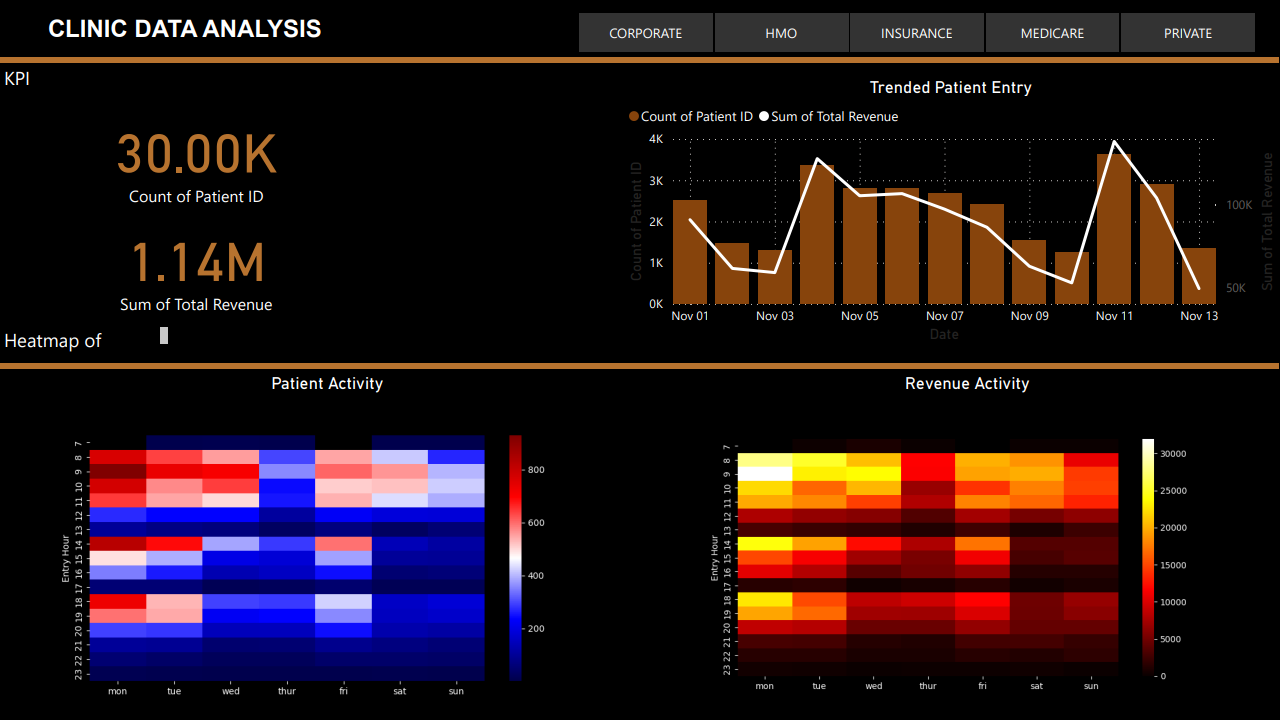

This screenshot's page, from the dashboard's own definition file:
{"tool":"powerbi","page":{"name":"Page 1","canvas":[1280,720],"ordinal":0},"visuals":[{"type":"pythonVisual","title":"Patient Activity","fields":{"Values":["cleaned_clinic_data.Patient ID","cleaned_clinic_data.Entry Hour","cleaned_clinic_data.days of the week"]},"box":[0,372.7,656.7,347],"z":0},{"type":"pythonVisual","title":"Revenue Activity","fields":{"Values":["cleaned_clinic_data.days of the week","cleaned_clinic_data.Entry Hour","cleaned_clinic_data.Total Revenue"]},"box":[656.7,372.7,623.3,347],"z":1},{"type":"lineStackedColumnComboChart","title":"Trended Patient Entry","fields":{"Category":["cleaned_clinic_data.Date"],"Y2":["Sum(cleaned_clinic_data.Total Revenue)"],"Y":["CountNonNull(cleaned_clinic_data.Patient ID)"]},"box":[623.9,77.2,656.1,270.2],"z":2},{"type":"card","fields":{"Values":["CountNonNull(cleaned_clinic_data.Patient ID)"]},"box":[0,101.6,394.9,110.6],"z":3},{"type":"card","fields":{"Values":["Sum(cleaned_clinic_data.Total Revenue)"]},"box":[0,212.3,394.9,106.8],"z":4},{"type":"shape","box":[0,52.7,1280,14.2],"z":5},{"type":"shape","box":[0,358.9,1280,14.2],"z":6},{"type":"textbox","box":[0,321.6,173.7,37.3],"z":7},{"type":"textbox","box":[0,60.5,189.1,37.3],"z":8},{"type":"textbox","box":[43.7,10.3,406.5,42.5],"z":9},{"type":"slicer","fields":{"Values":["cleaned_clinic_data.Financial Class"]},"box":[554.5,6.4,725.5,51.5],"z":10}]}

Visuals, with their boxes in screenshot pixels (x1, y1, x2, y2), scaled from the page's 1280x720 canvas onto the 1280x720 screenshot:
"Patient Activity" pythonVisual: select_region(0, 373, 657, 719)
"Revenue Activity" pythonVisual: select_region(657, 373, 1279, 719)
"Trended Patient Entry" lineStackedColumnComboChart: select_region(624, 77, 1279, 347)
card - CountNonNull(cleaned_clinic_data.Patient ID): select_region(0, 102, 395, 212)
card - Sum(cleaned_clinic_data.Total Revenue): select_region(0, 212, 395, 319)
shape: select_region(0, 53, 1279, 67)
shape: select_region(0, 359, 1279, 373)
textbox: select_region(0, 322, 174, 359)
textbox: select_region(0, 60, 189, 98)
textbox: select_region(44, 10, 450, 53)
slicer - cleaned_clinic_data.Financial Class: select_region(554, 6, 1279, 58)
